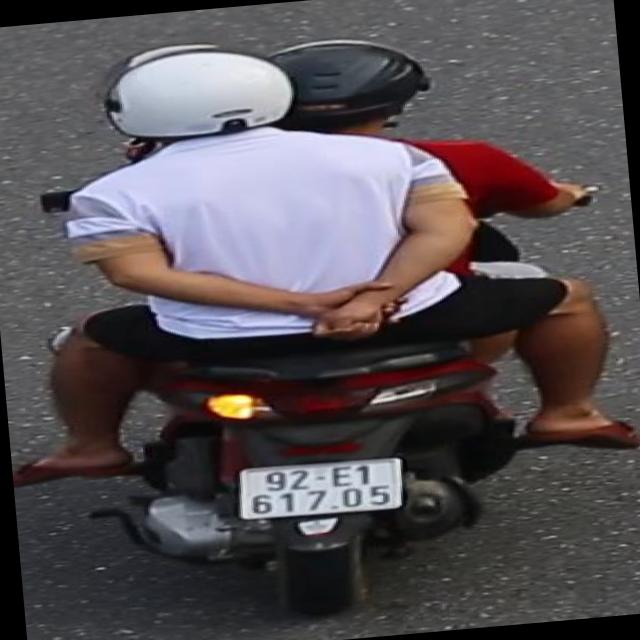LP: (229, 449, 413, 527)
helmet: (99, 36, 300, 156), (262, 25, 433, 137)
